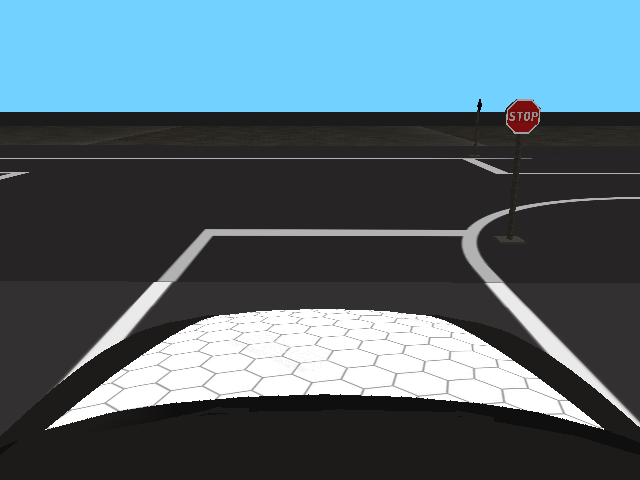stop: (506, 100, 540, 134)
